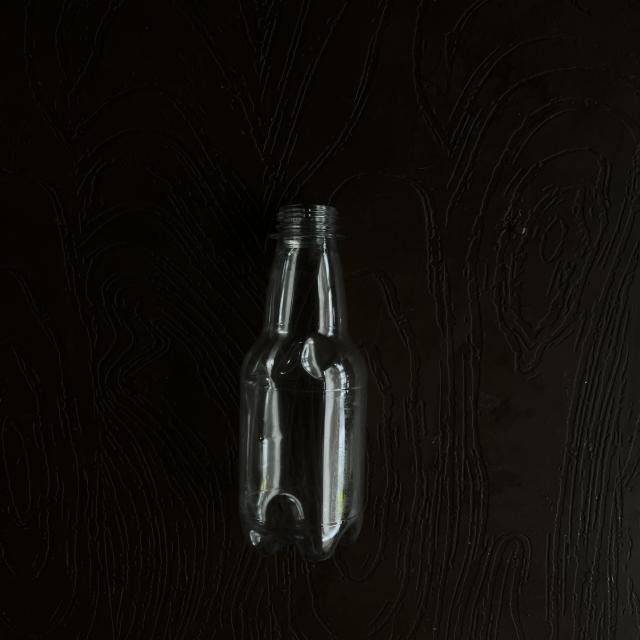PET_ClearBottle: (237, 202, 377, 553)
